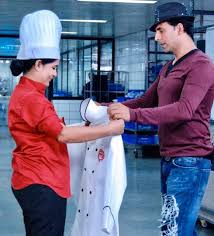Bad: (8, 1, 212, 236)
